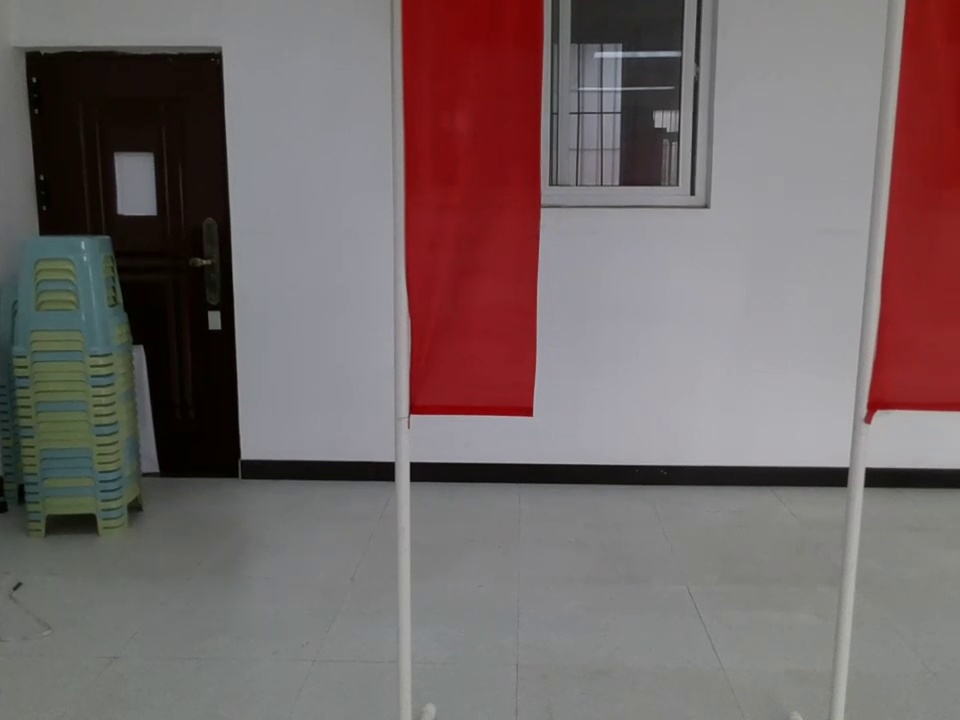qi: (387, 1, 563, 443), (833, 2, 960, 444)
